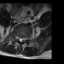CCS_stenosis: (20, 35, 22, 43)
LFS_normal: (24, 34, 27, 41)
LLS_normal: (22, 35, 24, 42)
RFS_normal: (15, 33, 17, 41)
RLS_normal: (17, 34, 20, 41)
